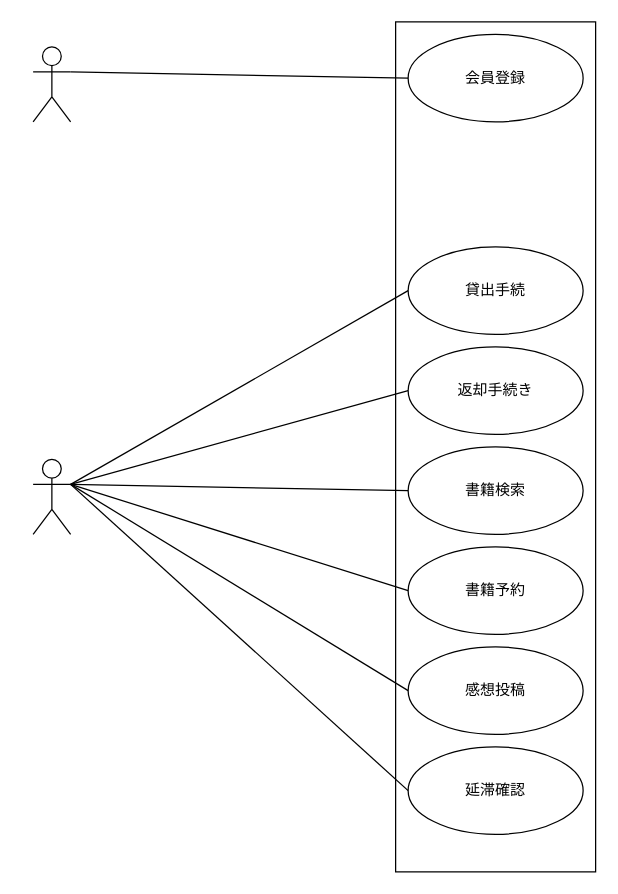
The diagram is 618 pixels wide and 894 high, and some of its shapes have lost their labels. Each missing label, with the centre of its shape:
未登録者: (x=51, y=84)
登録者: (x=51, y=496)
